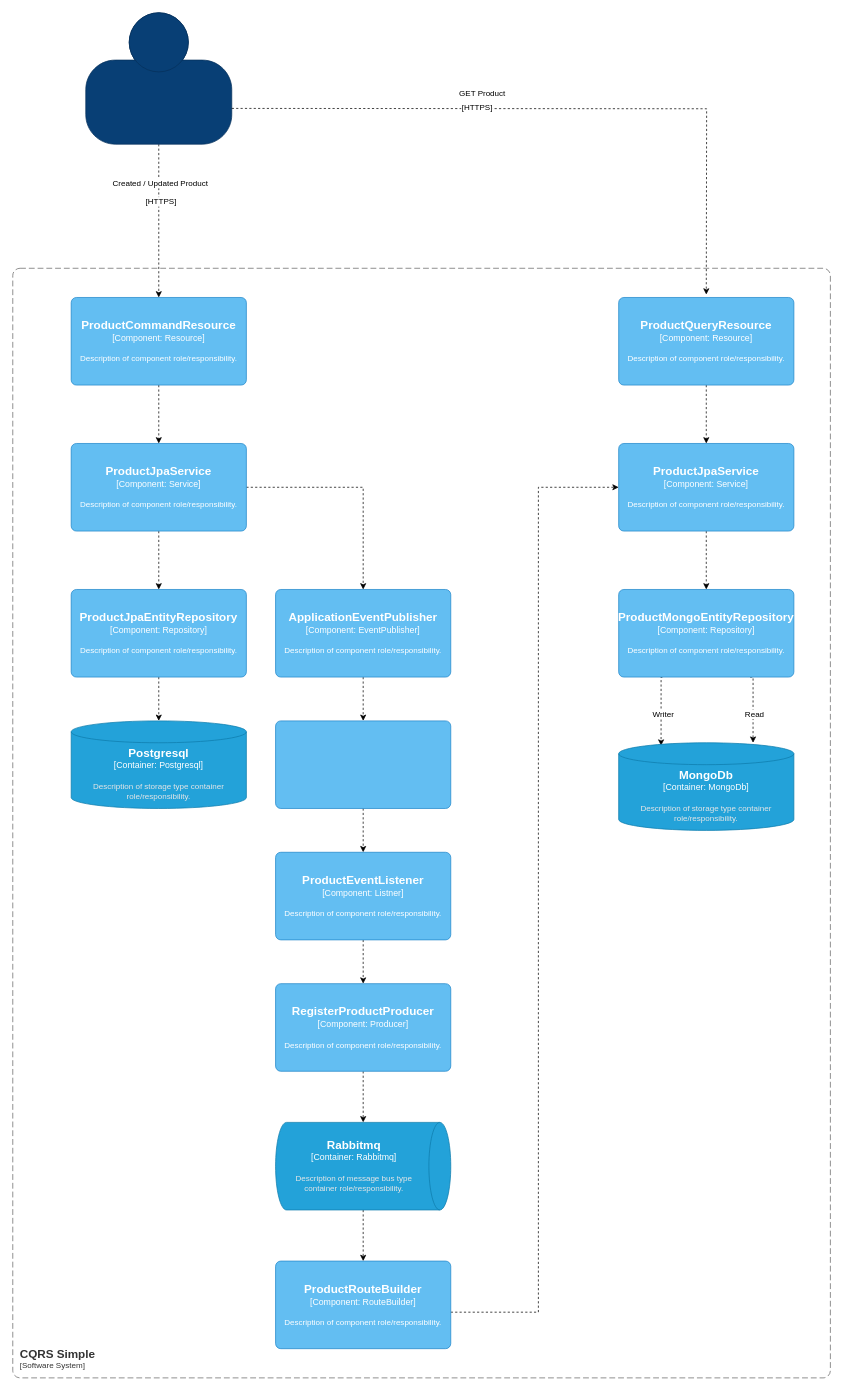
The diagram is 843 pixels wide and 1391 high, and some of its shapes have lost their labels. The shapes that lost their labels are listed below. From the top down, each one's box as (x1, y1, x2, y2) in pixels, then its label:
(85, 12, 232, 144): User [Person] Description of person.
(275, 720, 451, 808): ProductEvent [Component: Event] Description of component role/responsibility.
